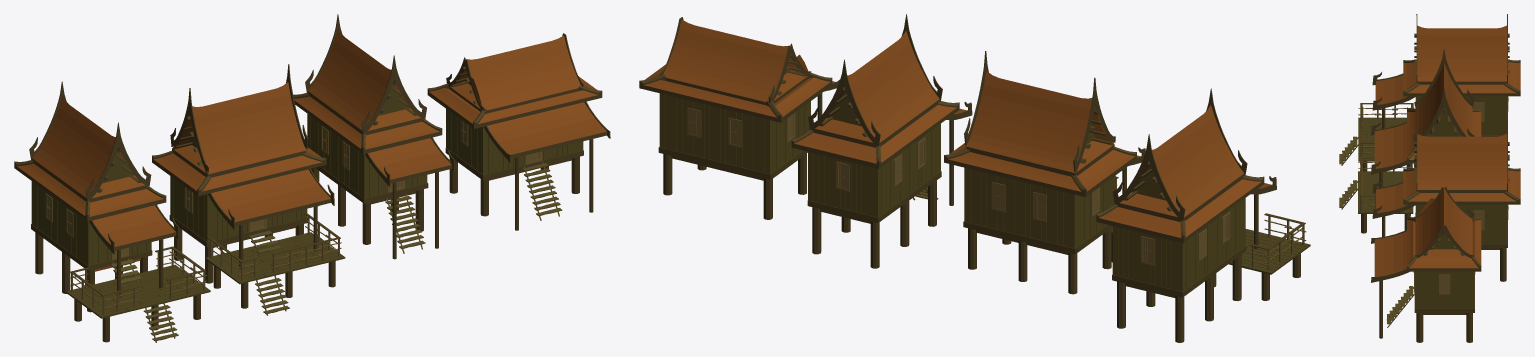
Rendered from quit.fbx.
3 renders of one model, left to right at view 1: azimuth 30°, elevation 25°; view 2: azimuth 150°, elevation 25°; view 3: azimuth 270°, elevation 25°, orthographic. The views are drawn at different scales.
Visible parts, largest first — view 1: House 2, House 1, House 4, House 3, Plane.002, Plane.001; view 2: House 2, House 1, House 3, House 4; view 3: House 1, House 3, House 4, House 2, Plane.002.
Part boxes in pixels (x1,y1,x2,y2): House 2: [152, 64, 345, 315]; House 1: [14, 81, 210, 342]; House 4: [427, 33, 610, 230]; House 3: [293, 14, 454, 259]; Plane.002: [522, 161, 562, 220]; Plane.001: [385, 193, 425, 253]; House 2: [944, 51, 1145, 294]; House 1: [1096, 88, 1310, 342]; House 3: [791, 14, 972, 268]; House 4: [639, 17, 839, 219]; House 1: [1339, 14, 1520, 171]; House 3: [1372, 122, 1520, 281]; House 4: [1371, 187, 1481, 342]; House 2: [1339, 48, 1481, 233]; Plane.002: [1386, 286, 1414, 327].
Bounding box in the file's own units: 2581 × 858 × 950.
